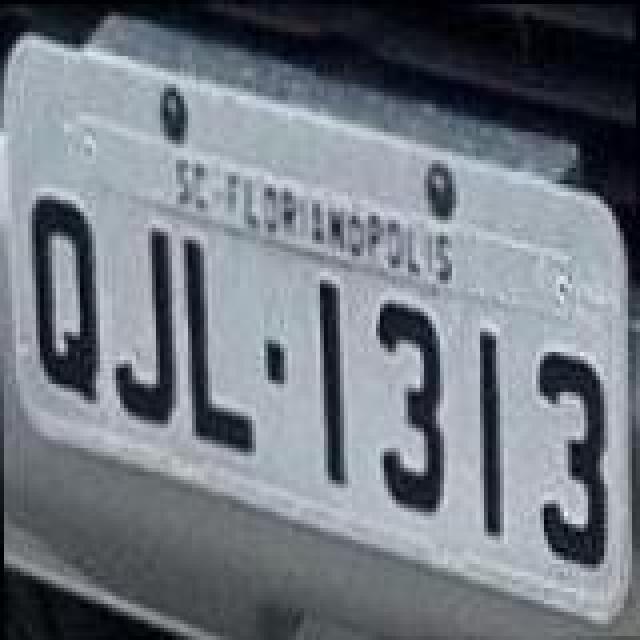1: (320, 274, 356, 490), (474, 324, 506, 540)
3: (530, 346, 610, 574), (372, 292, 448, 516)
J: (110, 226, 178, 430)
L: (182, 236, 258, 460)
Q: (26, 192, 102, 408)
